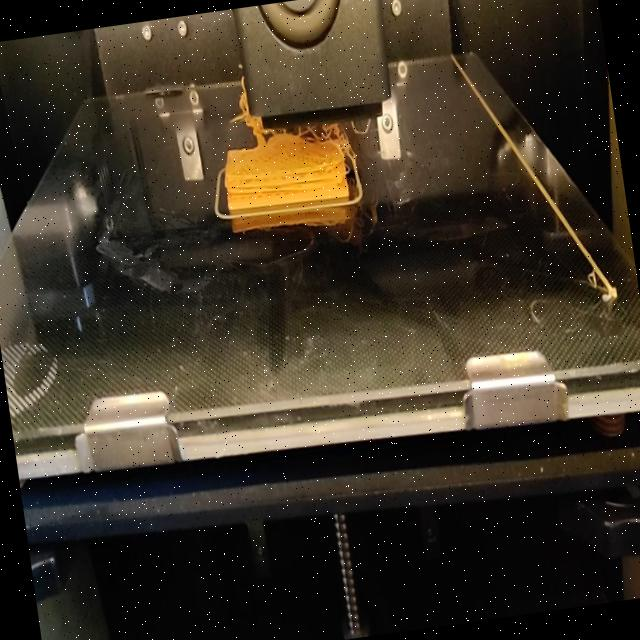spaghetti: (277, 111, 370, 154), (224, 71, 248, 126)
